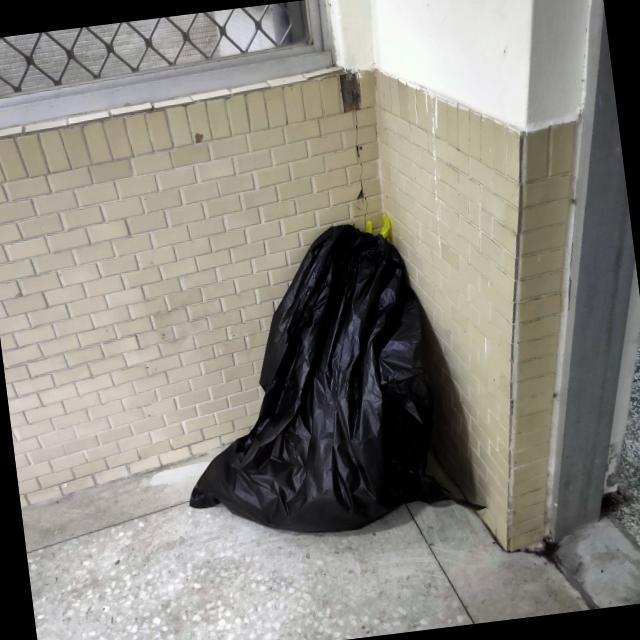garbage: (138, 185, 485, 558)
